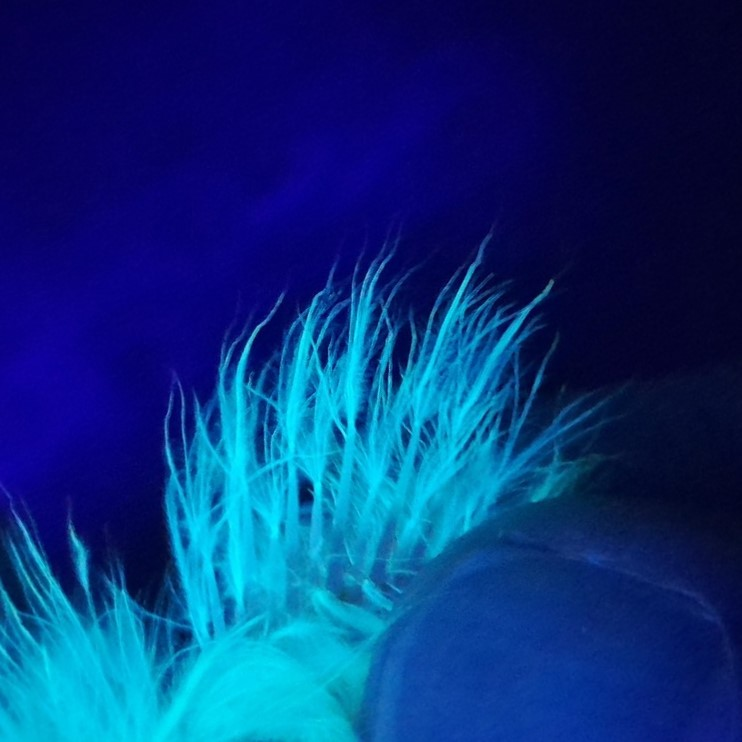male: (167, 354, 530, 648)
